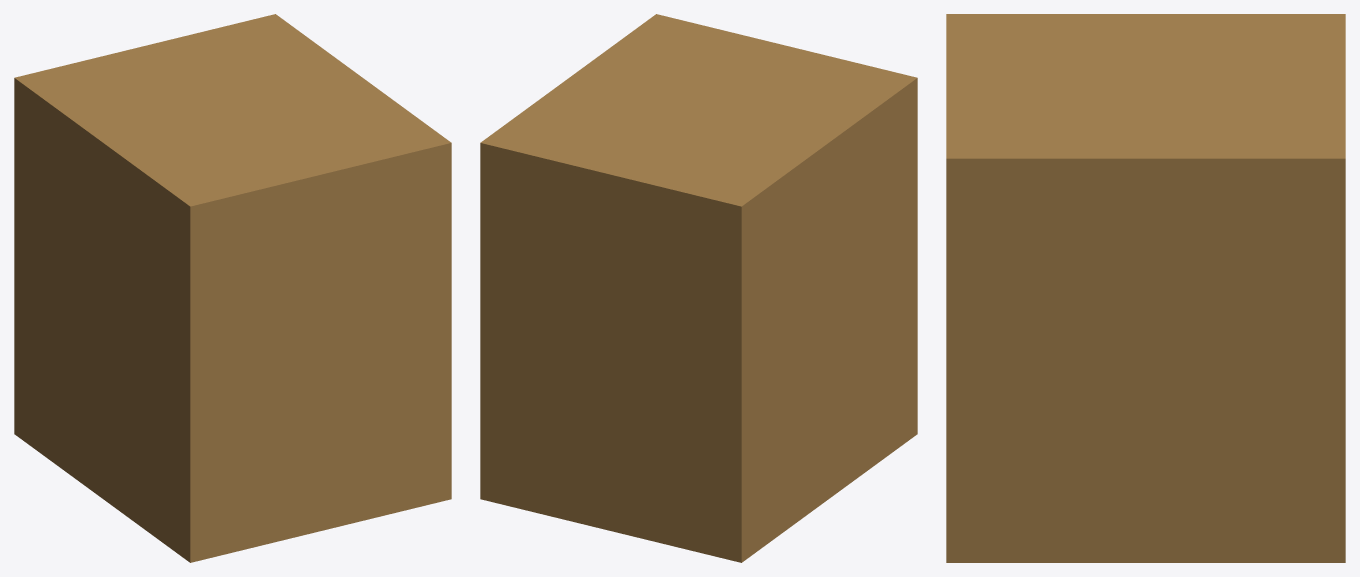
File: prop_yakjang_lod2.glb
3 renders of one model, left to right at view 1: azimuth 30°, elevation 25°; view 2: azimuth 150°, elevation 25°; view 3: azimuth 270°, elevation 25°, orthographic. The views are drawn at different scales.
Visible parts, largest first — view 1: prop_yakjang_lod2; view 2: prop_yakjang_lod2; view 3: prop_yakjang_lod2.
Part boxes in pixels (<box>): prop_yakjang_lod2: <box>14,14,451,562</box>; prop_yakjang_lod2: <box>480,14,917,562</box>; prop_yakjang_lod2: <box>946,14,1345,562</box>.
Size of the model in its own units: 0.66 by 0.86 by 0.77.
